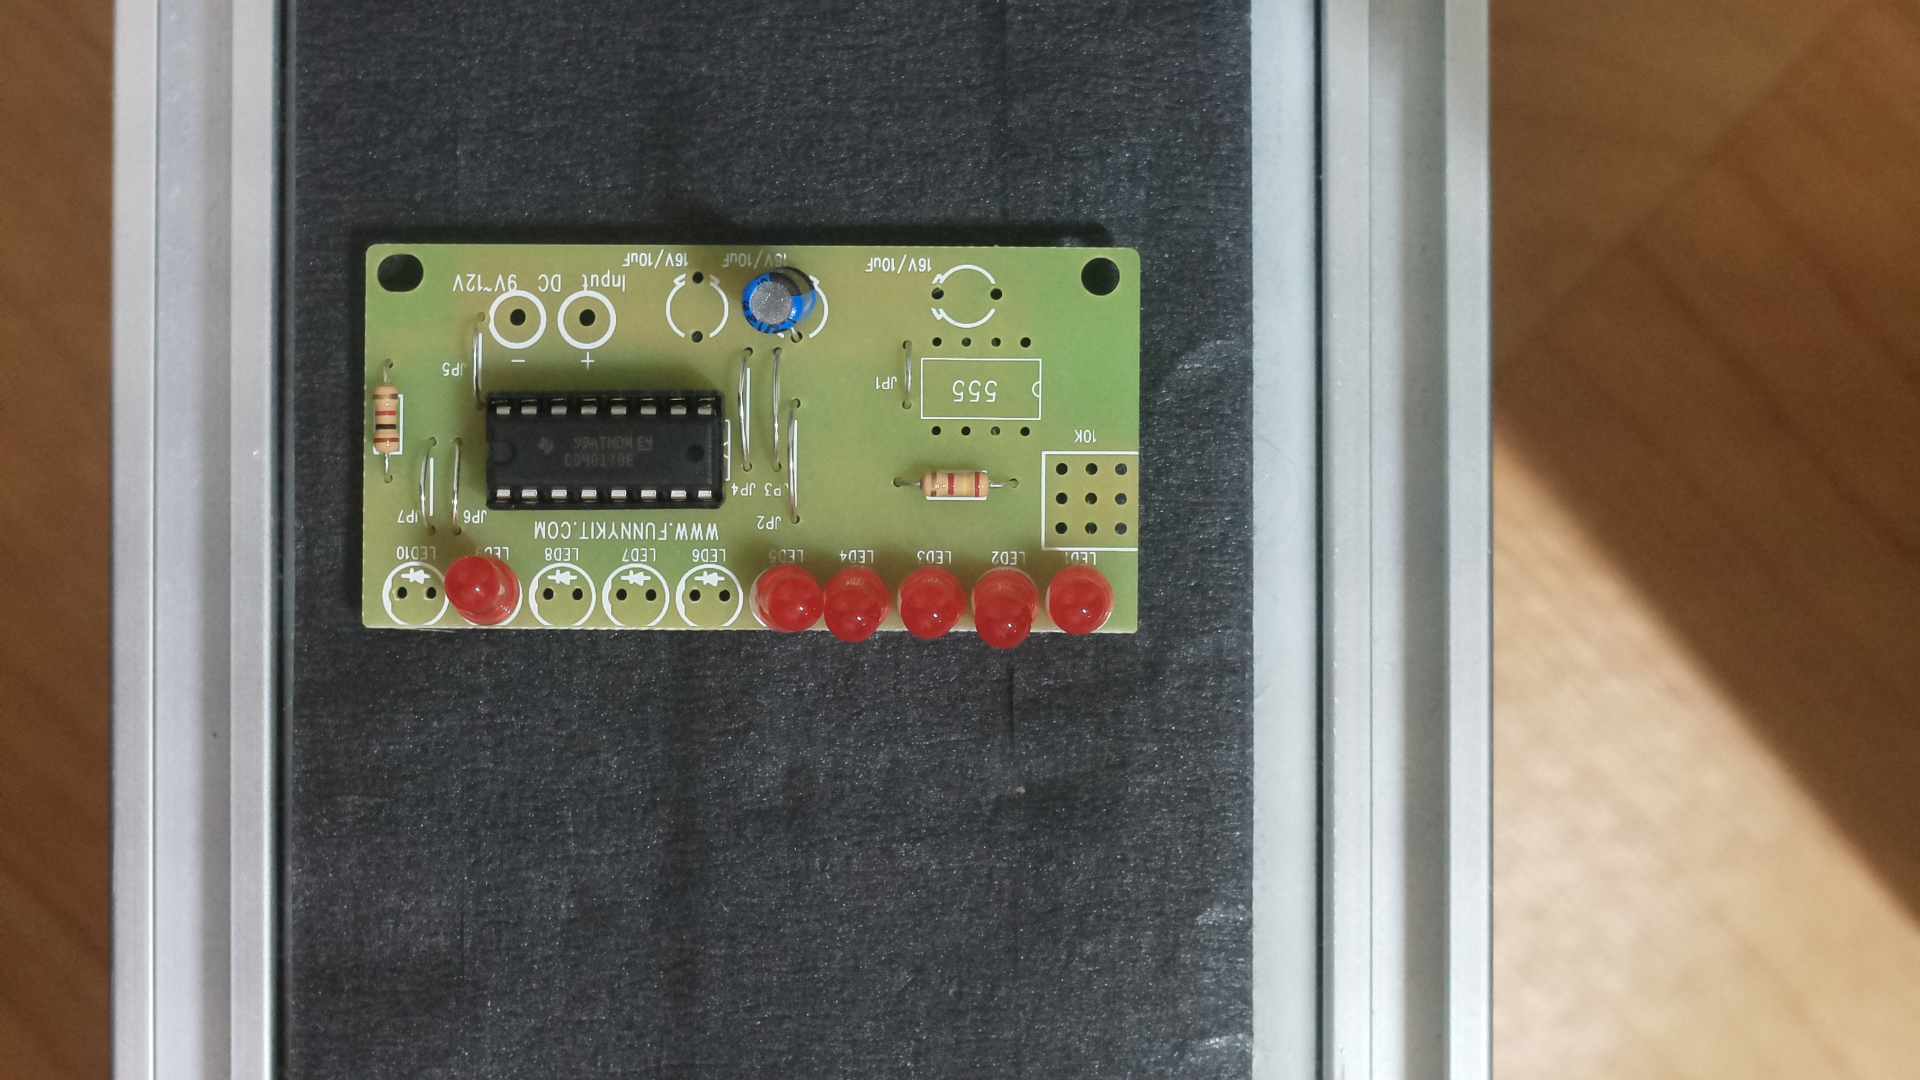B_Missing_part: (342, 223, 1154, 669)
